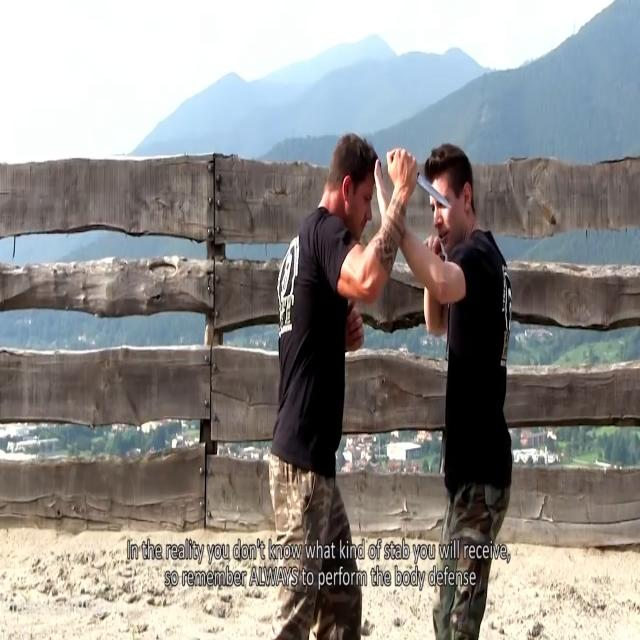knife: (412, 170, 459, 216)
